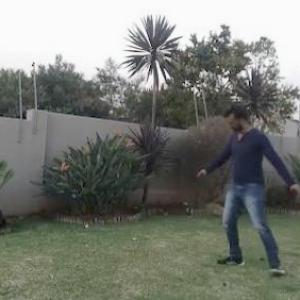land: (189, 94, 299, 292)
